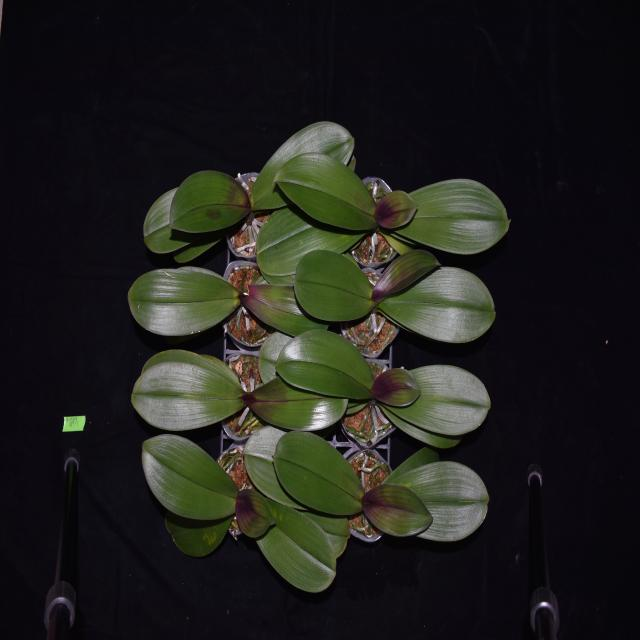leaf: (129, 337, 245, 432), (251, 116, 358, 207), (272, 417, 362, 520), (391, 176, 513, 251), (387, 463, 499, 542), (385, 266, 499, 342), (137, 436, 239, 519), (248, 502, 340, 594), (256, 206, 368, 280), (380, 364, 502, 431), (124, 264, 237, 336), (276, 324, 376, 404), (272, 154, 373, 232), (242, 412, 310, 514), (166, 161, 252, 236), (291, 250, 375, 325), (249, 378, 353, 432), (242, 274, 330, 337), (361, 472, 441, 541), (142, 185, 208, 253), (373, 248, 452, 300), (371, 411, 468, 450), (164, 504, 228, 556), (312, 497, 359, 556), (372, 361, 420, 412), (236, 487, 280, 538), (372, 188, 420, 231), (260, 329, 295, 386)
